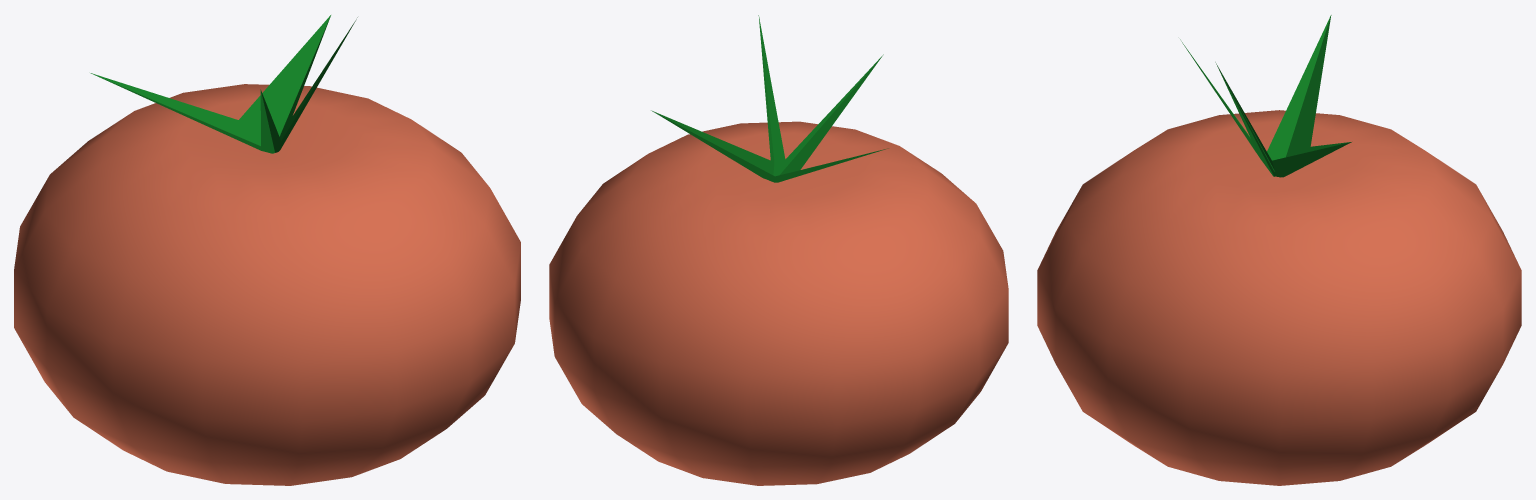
File: tomatoKlarka.fbx
The picture shows the model from 3 angles, left to right: view 1: azimuth 30°, elevation 25°; view 2: azimuth 150°, elevation 25°; view 3: azimuth 270°, elevation 25°; orthographic projection. The views are drawn at different scales.
Parts seen in each view (by area): view 1: Circle, Cube; view 2: Circle, Cube; view 3: Circle, Cube.
Part boxes in pixels (x1,y1,x2,y2): Circle: (14, 84, 520, 485); Cube: (90, 15, 357, 153); Circle: (549, 121, 1008, 485); Cube: (651, 15, 888, 182); Circle: (1037, 110, 1521, 485); Cube: (1180, 15, 1351, 177).
Size of the model in its own units: 220 by 209 by 223.
